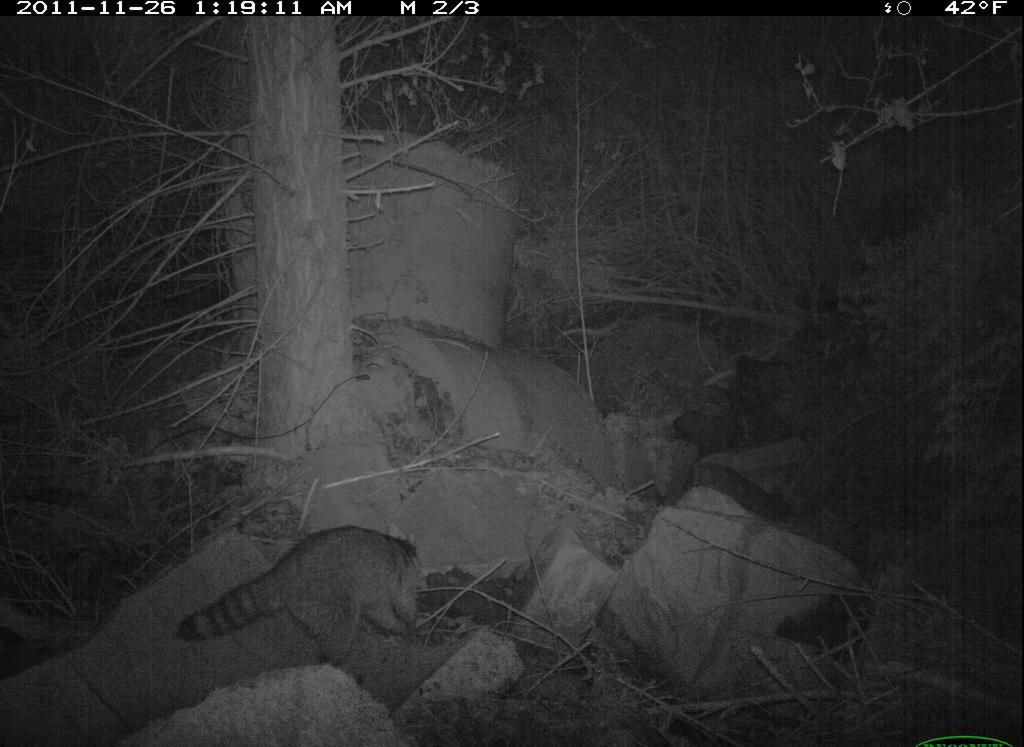raccoon: (171, 521, 440, 670)
